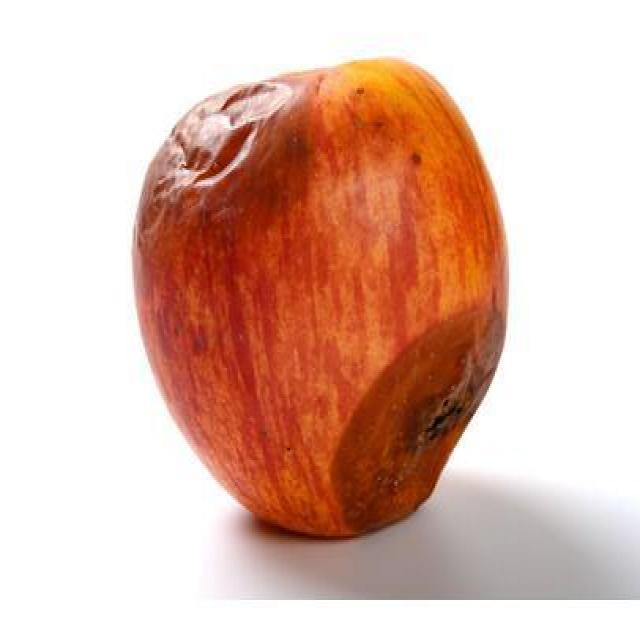Banana: (125, 63, 505, 527)
